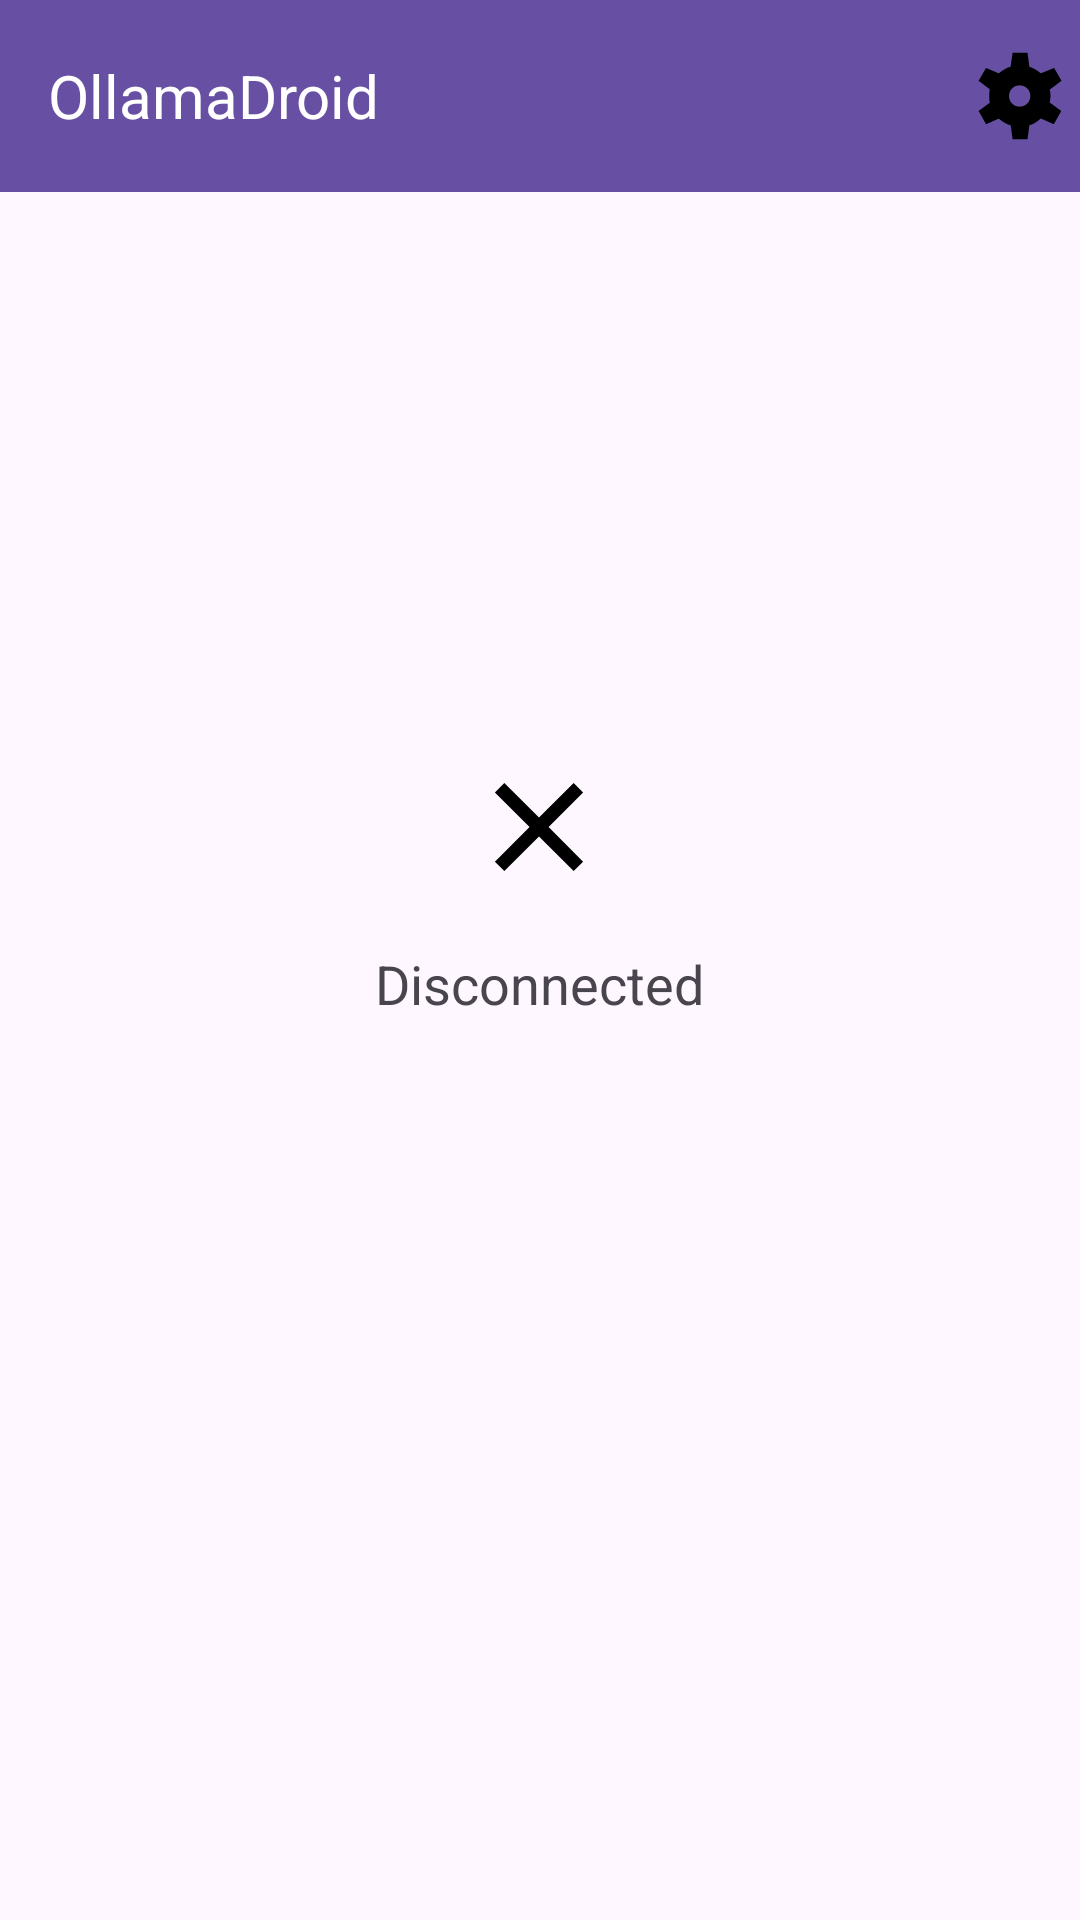

Icon click points for this 1080×1920 phone screenshot, format (x=x, y=y):
Settings: (x=1020, y=96)
